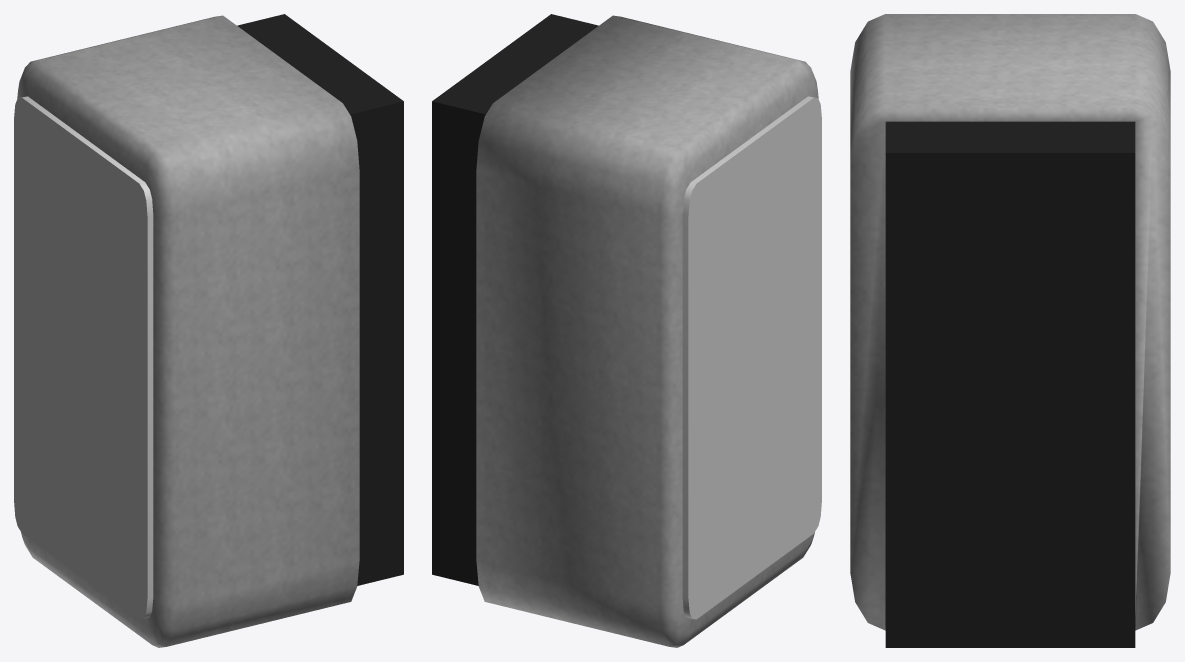
The model's file is radial-container.fbx.
3 views of the same model, side by side, from view 1: azimuth 30°, elevation 25°; view 2: azimuth 150°, elevation 25°; view 3: azimuth 270°, elevation 25° (orthographic). The views are drawn at different scales.
Parts seen in each view (by area): view 1: radial-container, panel; view 2: radial-container, panel; view 3: radial-container.
Part boxes in pixels (box(x1,y1,x2,y2)): radial-container: box(17, 14, 403, 647); panel: box(14, 96, 153, 619); radial-container: box(432, 14, 818, 647); panel: box(682, 96, 821, 619); radial-container: box(850, 14, 1170, 647).
Size of what is drawn, in the model's own units: 0.5519 by 1 by 0.5551.
Materials: 2 (1 with a texture image).
